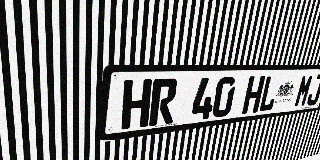0: (211, 77, 237, 118)
4: (190, 77, 217, 121)
H: (121, 79, 152, 130), (242, 76, 266, 114)
J: (305, 74, 320, 106)
L: (258, 75, 281, 112)
M: (293, 74, 314, 108)
R: (149, 78, 178, 126)
